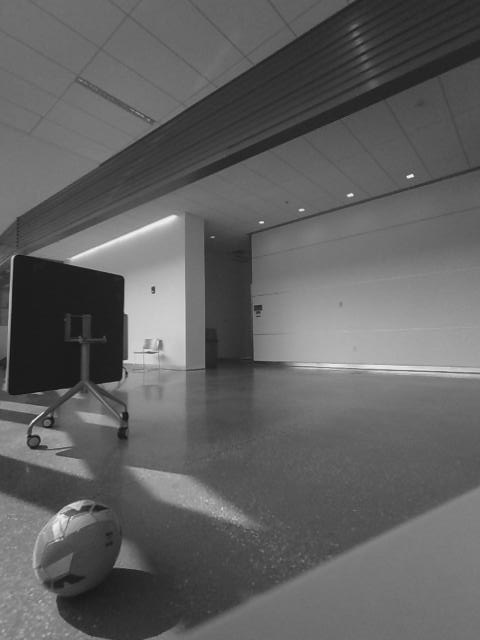ball: (28, 497, 128, 593)
